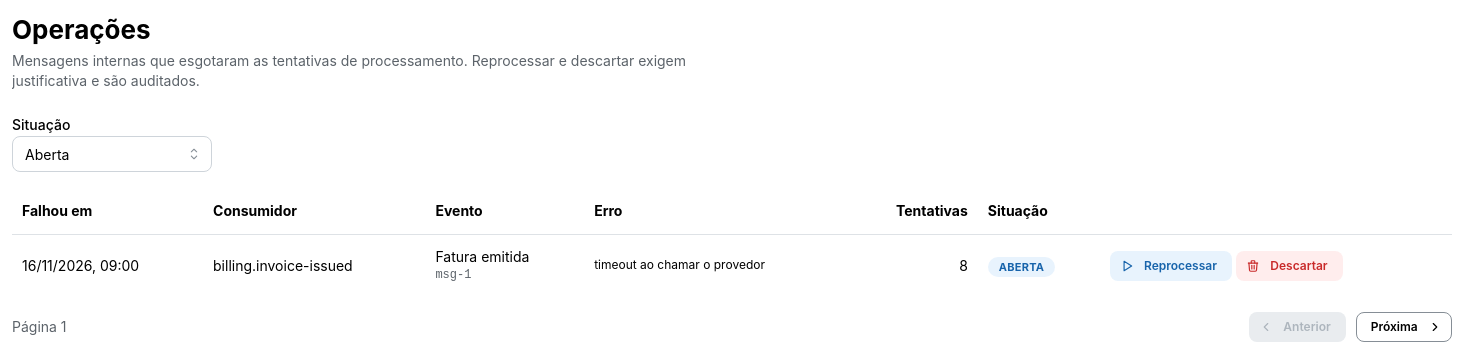
Scenario: operações › a listagem segue o next_cursor
Expected: the text "timeout ao chamar o provedor" is shown, [594,257,765,272]
Click the button "Próxima": (1404, 327) [1356,312,1452,342]
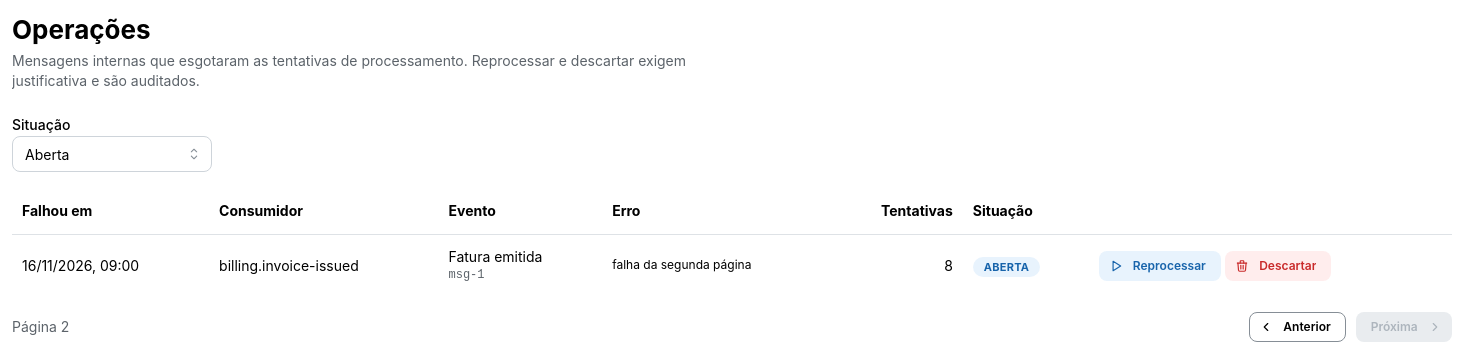
Now the text "falha da segunda página" is shown, box [612,257,751,272]
